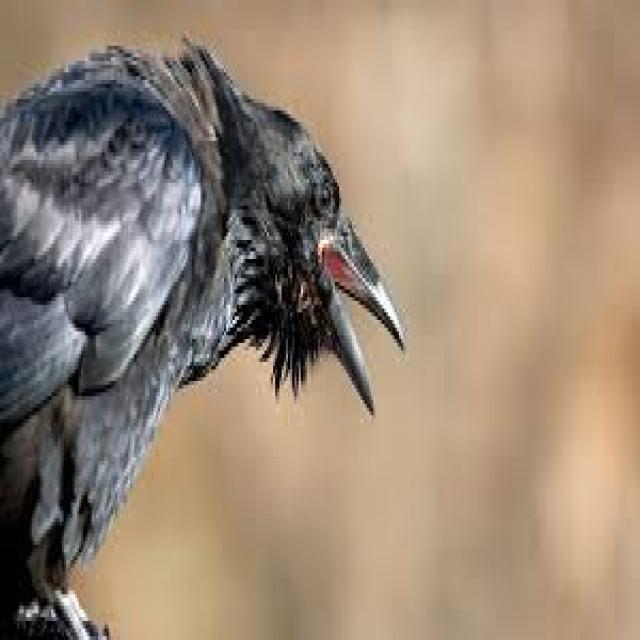crow: (129, 78, 363, 432)
